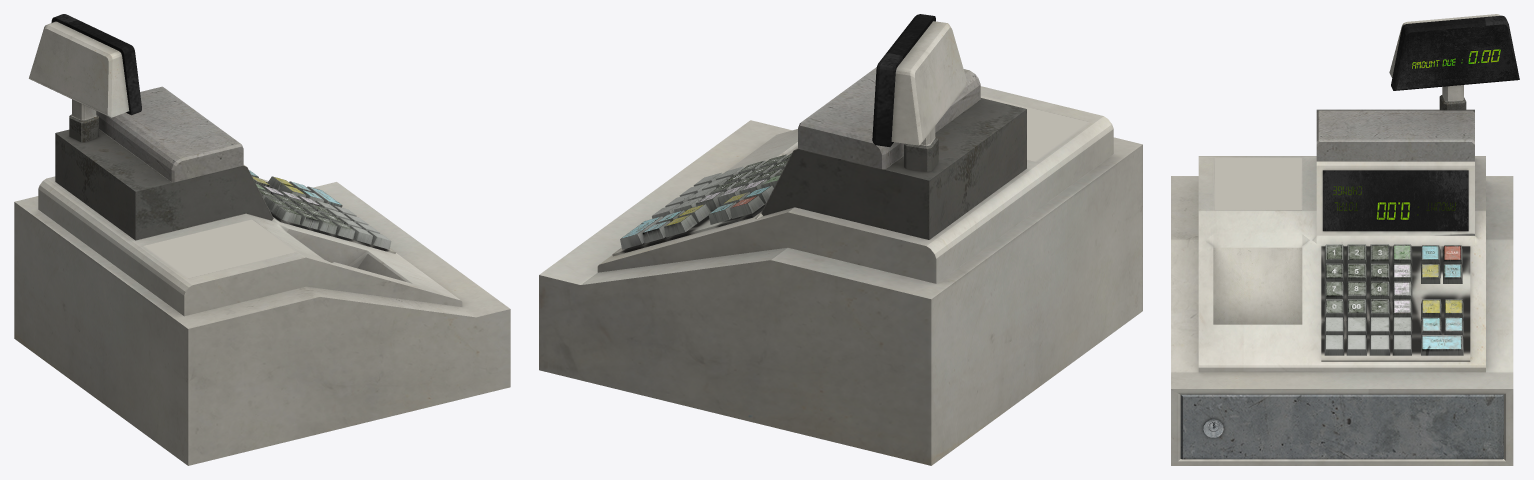
Rendered from Register.obj.
3 views of the same model, side by side, from view 1: azimuth 30°, elevation 25°; view 2: azimuth 150°, elevation 25°; view 3: azimuth 270°, elevation 25° (orthographic). The views are drawn at different scales.
Visible parts, largest first — view 1: Plane.146_Plane.001; view 2: Plane.146_Plane.001; view 3: Plane.146_Plane.001.
Boxes of the visible parts, x1,y1,x2,y2 form: Plane.146_Plane.001: (14, 14, 510, 465); Plane.146_Plane.001: (539, 14, 1142, 465); Plane.146_Plane.001: (1171, 14, 1519, 465).
Size of the model in its own units: 2.16 by 2.01 by 2.04.
